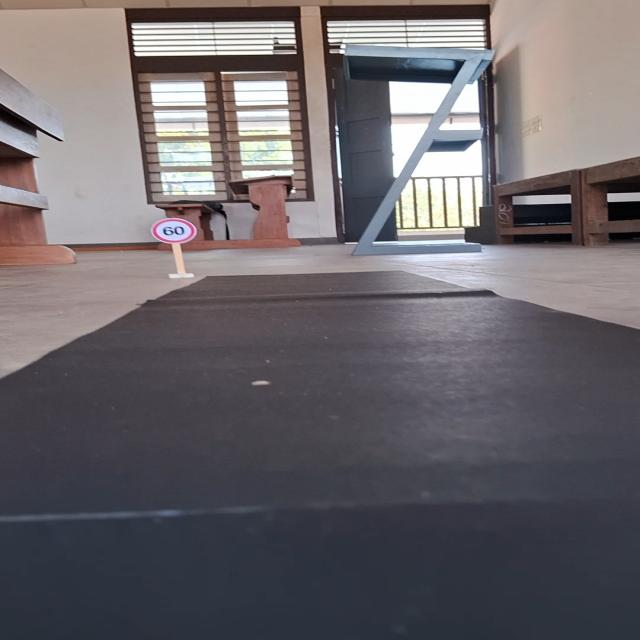Speed60: (148, 217, 199, 245)
